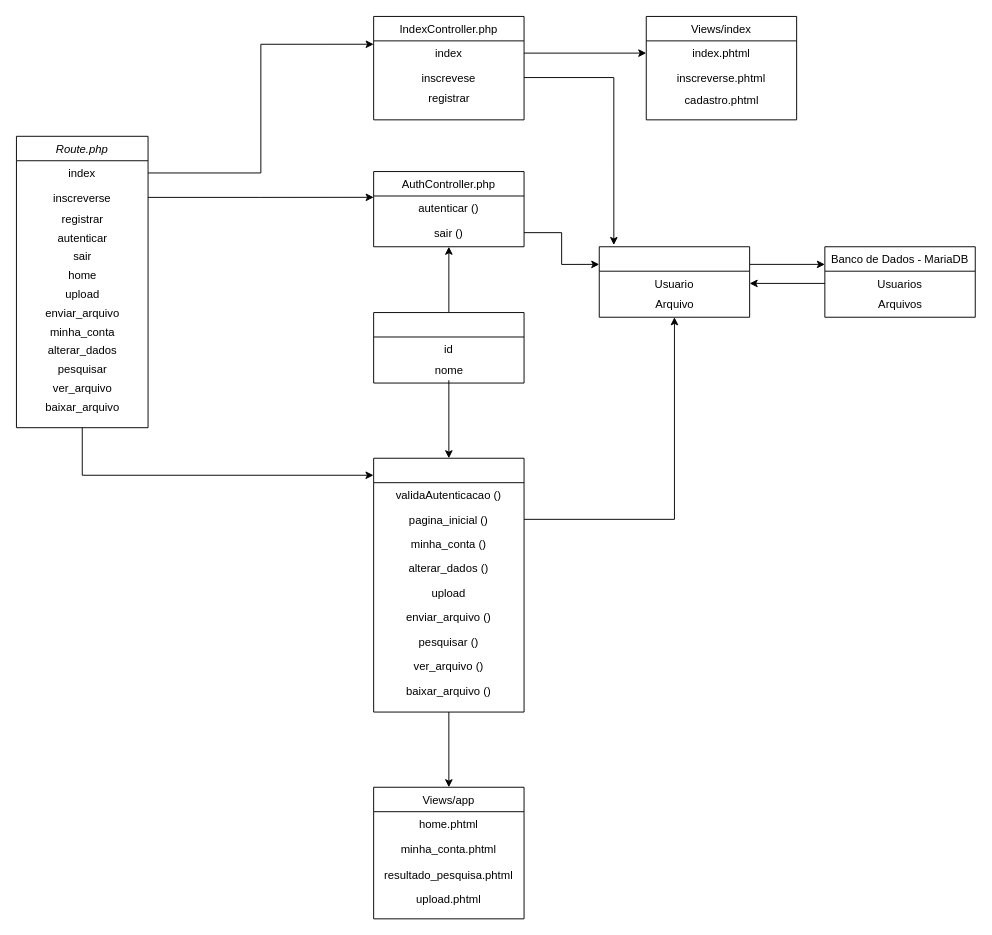
This 992x935 diagram has some shape labels left out. The box of each missing label's shape, as (x1, y1, x2, y2) in pixels:
AppController.php: (373, 457, 524, 712)
Model: (598, 246, 750, 317)
SESSION: (373, 312, 524, 383)
